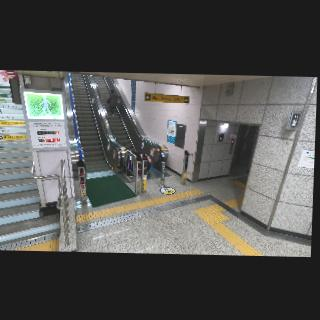anomaly: (133, 151, 154, 174)
normal: (105, 89, 122, 118)
